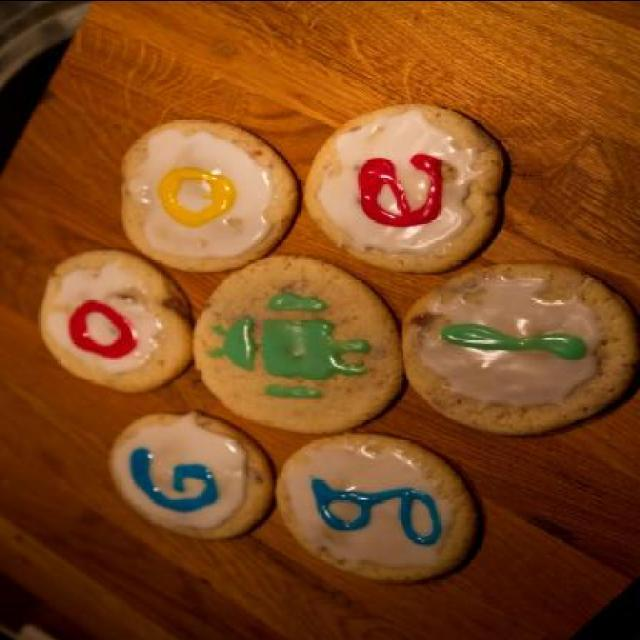Cookie: (400, 263, 638, 435), (188, 256, 400, 434), (298, 102, 512, 273), (273, 434, 479, 586), (115, 118, 303, 272), (34, 245, 192, 393), (106, 409, 269, 540)
